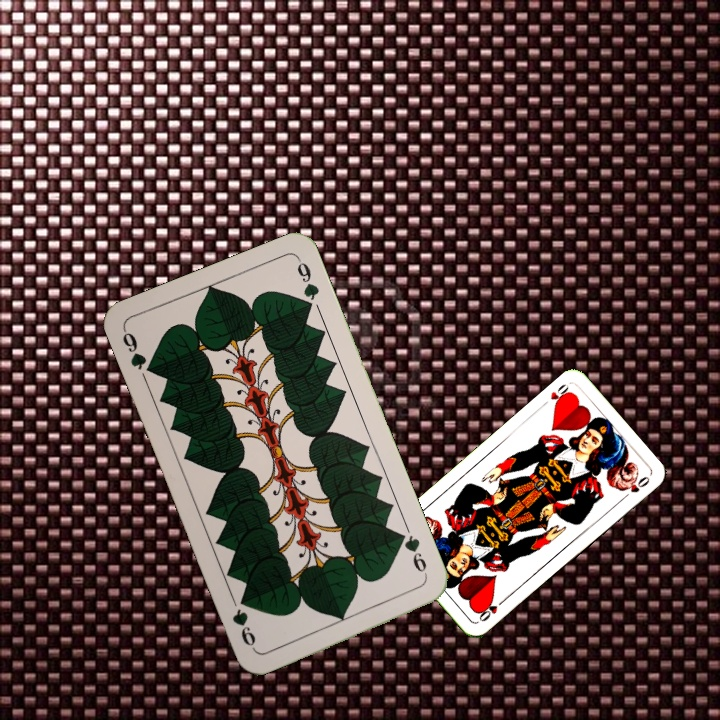G9: (118, 326, 158, 377), (394, 528, 431, 582)
HO: (538, 380, 574, 410), (475, 594, 509, 624)
